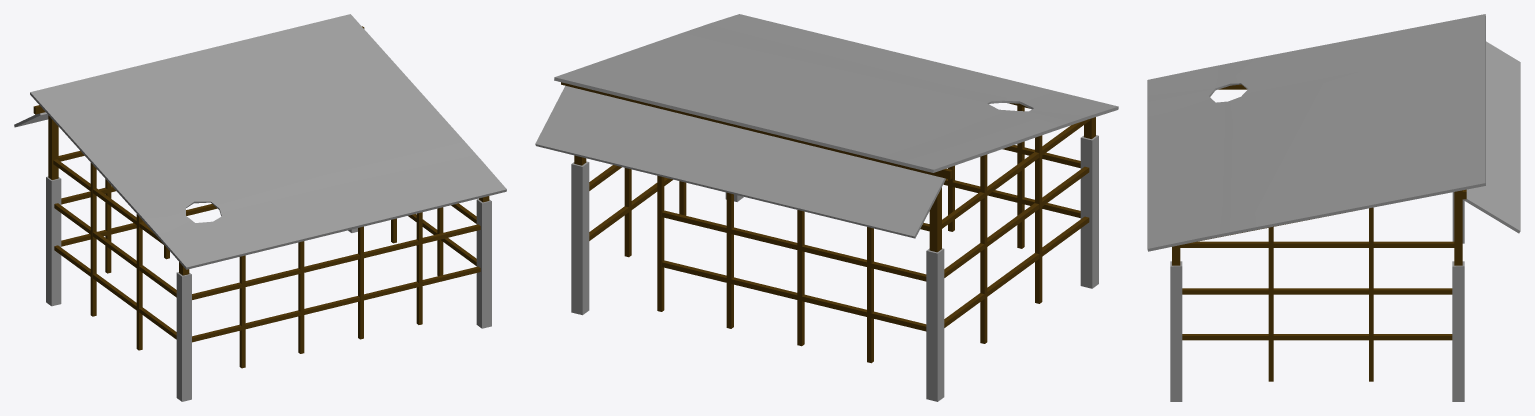
The model's file is roof and walls.fbx.
The picture shows the model from 3 angles, left to right: view 1: azimuth 30°, elevation 25°; view 2: azimuth 150°, elevation 25°; view 3: azimuth 270°, elevation 25°; orthographic projection. The views are drawn at different scales.
Parts seen in each view (by area): view 1: pCube49; view 2: pCube49; view 3: pCube49.
Part boxes in pixels (bbox=[...]): pCube49: bbox=[14, 14, 506, 401]; pCube49: bbox=[535, 14, 1118, 401]; pCube49: bbox=[1147, 14, 1520, 401].
Size of the model in its own units: 15.33 by 9.12 by 13.93.
